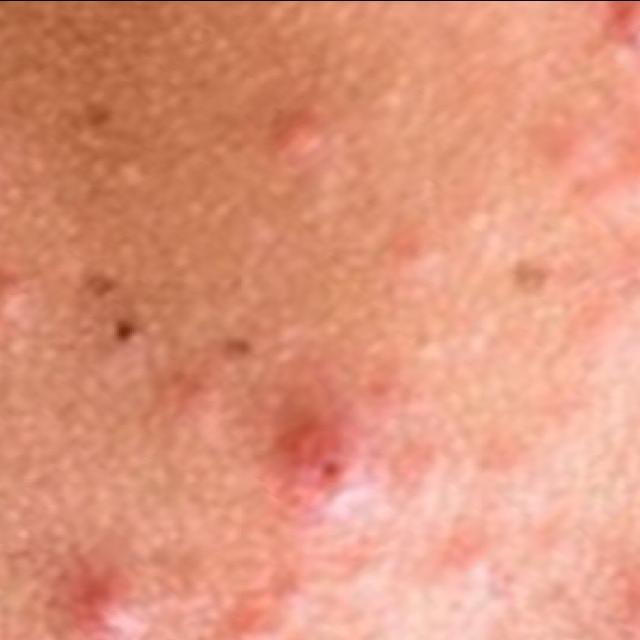acne: (258, 348, 452, 542), (536, 95, 640, 229), (41, 547, 162, 640), (199, 549, 318, 640), (268, 104, 363, 190)
